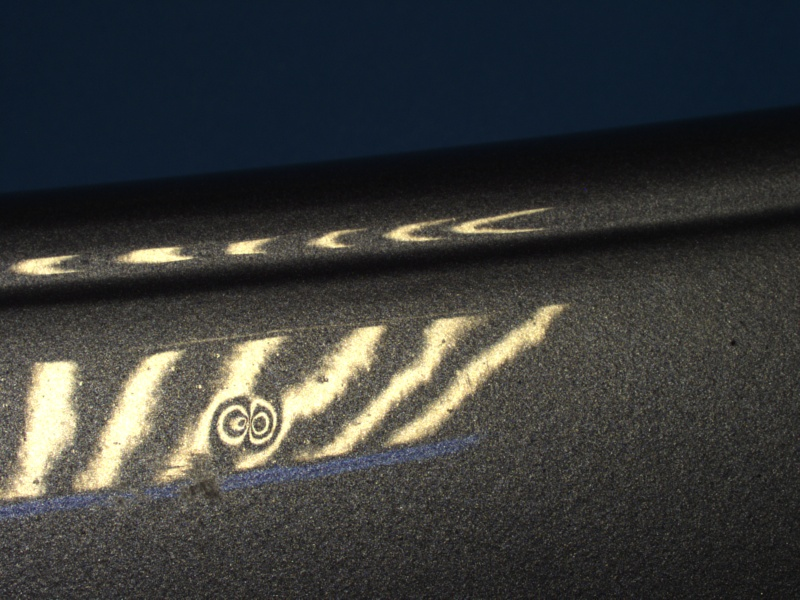bad: (207, 385, 293, 460)
